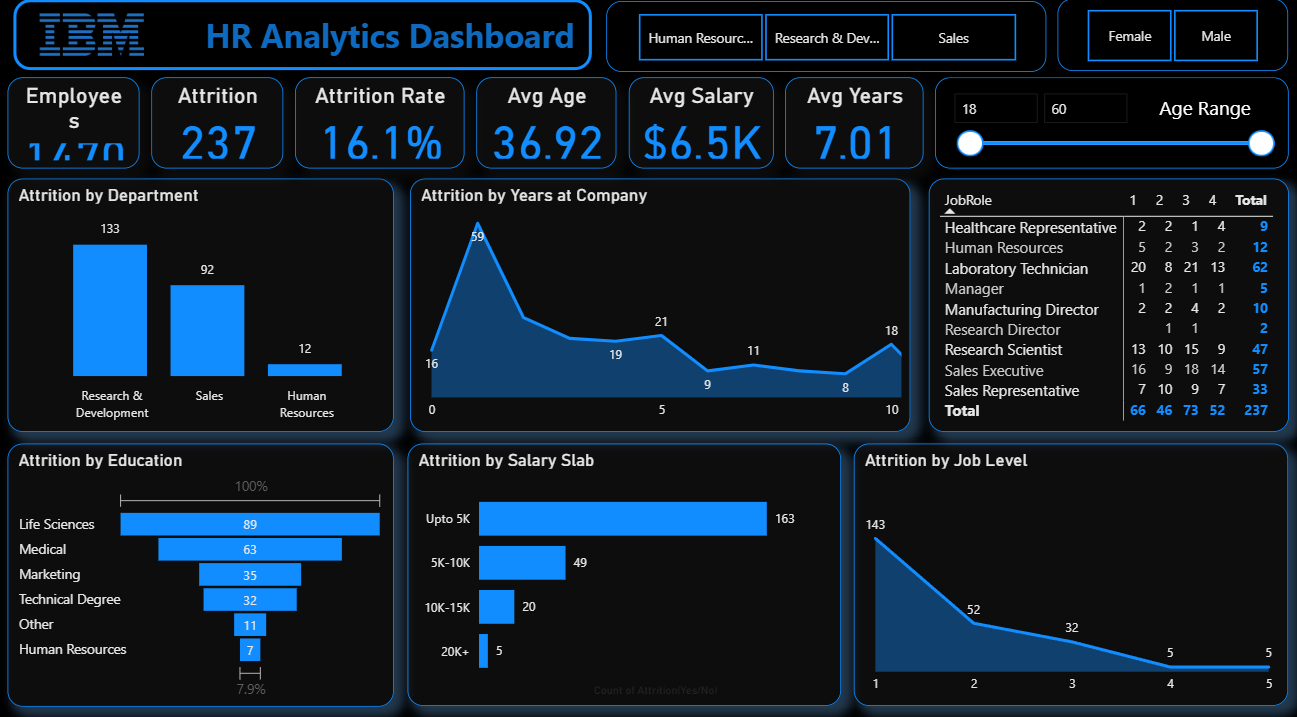

What the dashboard file says about the page in this screenshot:
{"tool":"powerbi","page":{"name":"Dashboard","canvas":[1280,720],"ordinal":0},"visuals":[{"type":"textbox","box":[1128.1,96.6,120.3,41.4],"z":0},{"type":"basicShape","box":[12.8,7.1,579.4,71],"z":1000},{"type":"image","box":[27,17,136.3,51.1],"z":2000},{"type":"card","title":"Attrition","fields":{"Values":["CountNonNull(IBM-HR-Employee-Attrition-And-Performance.Attrition)"]},"box":[153.7,85.2,129.2,89.5],"z":3000},{"type":"textbox","box":[161.9,17,411.8,61.1],"z":4000},{"type":"card","title":"Avg Age","fields":{"Values":["Avg(IBM-HR-Employee-Attrition-And-Performance.Age)"]},"box":[472.3,85.2,137.8,89.5],"z":5000},{"type":"lineStackedColumnComboChart","title":"Attrition by Department","fields":{"Category":["IBM-HR-Employee-Attrition-And-Performance.Department"],"Y":["CountNonNull(IBM-HR-Employee-Attrition-And-Performance.Attrition(Yes/No))"]},"box":[12.1,183.5,379.1,248.7],"z":6000},{"type":"barChart","title":"Attrition by Salary Slab","fields":{"Category":["IBM-HR-Employee-Attrition-And-Performance.AnnualSalary1"],"Y":["CountNonNull(IBM-HR-Employee-Attrition-And-Performance.Attrition(Yes/No))"]},"box":[404.8,444.1,425.6,257.5],"z":7000},{"type":"areaChart","title":"Attrition by Years at Company","fields":{"Category":["IBM-HR-Employee-Attrition-And-Performance.YearsAtCompany"],"Y":["CountNonNull(IBM-HR-Employee-Attrition-And-Performance.Attrition(Yes/No))"]},"box":[408,183.5,491.4,248.7],"z":8000},{"type":"funnel","title":"Attrition by Education","fields":{"Category":["IBM-HR-Employee-Attrition-And-Performance.EducationField"],"Y":["CountNonNull(IBM-HR-Employee-Attrition-And-Performance.Attrition)"]},"box":[12.8,444.5,379.2,258.5],"z":9000},{"type":"card","title":"Employees","fields":{"Values":["Count(IBM-HR-Employee-Attrition-And-Performance.EmployeeNumber)"]},"box":[12.8,85.2,129.2,89.5],"z":10000},{"type":"card","title":"Attrition Rate","fields":{"Values":["IBM-HR-Employee-Attrition-And-Performance.Attrition Rate"]},"box":[294.5,85.2,166.2,89.5],"z":11000},{"type":"card","title":"Avg Salary","fields":{"Values":["Avg(IBM-HR-Employee-Attrition-And-Performance.MonthlyIncome)"]},"box":[621.7,85.2,142,89.5],"z":12000},{"type":"card","title":"Avg Years","fields":{"Values":["Avg(IBM-HR-Employee-Attrition-And-Performance.YearsAtCompany)"]},"box":[775.4,85.2,136.3,89.5],"z":13000},{"type":"pivotTable","title":"Attrition by Salary","fields":{"Rows":["IBM-HR-Employee-Attrition-And-Performance.JobRole"],"Columns":["IBM-HR-Employee-Attrition-And-Performance.JobSatisfaction"],"Values":["CountNonNull(IBM-HR-Employee-Attrition-And-Performance.Attrition)"]},"box":[916,183.5,353.4,248.7],"z":14000},{"type":"areaChart","title":"Attrition by Job Level","fields":{"Category":["IBM-HR-Employee-Attrition-And-Performance.JobLevel"],"Y":["Sum(IBM-HR-Employee-Attrition-And-Performance.Attrition)"]},"box":[843.2,444.4,426.2,257.8],"z":15000},{"type":"slicer","fields":{"Values":["IBM-HR-Employee-Attrition-And-Performance.Department"]},"box":[599.9,9.3,431.8,69.4],"z":16000},{"type":"slicer","title":"Gender","fields":{"Values":["IBM-HR-Employee-Attrition-And-Performance.Gender"]},"box":[1042.5,7.7,226.7,70.9],"z":18000},{"type":"slicer","title":"Age","fields":{"Values":["IBM-HR-Employee-Attrition-And-Performance.Age"]},"box":[922.2,84.8,347,89.4],"z":19000}]}

Visuals, with their boxes in screenshot pixels (x1, y1, x2, y2), scaled from the page's 1280x720 canvas onto the 1297x717 screenshot:
textbox: box=[1143, 96, 1265, 137]
basicShape: box=[13, 7, 600, 78]
image: box=[27, 17, 165, 68]
"Attrition" card: box=[156, 85, 287, 174]
textbox: box=[164, 17, 581, 78]
"Avg Age" card: box=[479, 85, 618, 174]
"Attrition by Department" lineStackedColumnComboChart: box=[12, 183, 396, 430]
"Attrition by Salary Slab" barChart: box=[410, 442, 841, 699]
"Attrition by Years at Company" areaChart: box=[413, 183, 911, 430]
"Attrition by Education" funnel: box=[13, 443, 397, 700]
"Employees" card: box=[13, 85, 144, 174]
"Attrition Rate" card: box=[298, 85, 467, 174]
"Avg Salary" card: box=[630, 85, 774, 174]
"Avg Years" card: box=[786, 85, 924, 174]
"Attrition by Salary" pivotTable: box=[928, 183, 1286, 430]
"Attrition by Job Level" areaChart: box=[854, 443, 1286, 699]
slicer - IBM-HR-Employee-Attrition-And-Performance.Department: box=[608, 9, 1045, 78]
"Gender" slicer: box=[1056, 8, 1286, 78]
"Age" slicer: box=[934, 84, 1286, 173]
